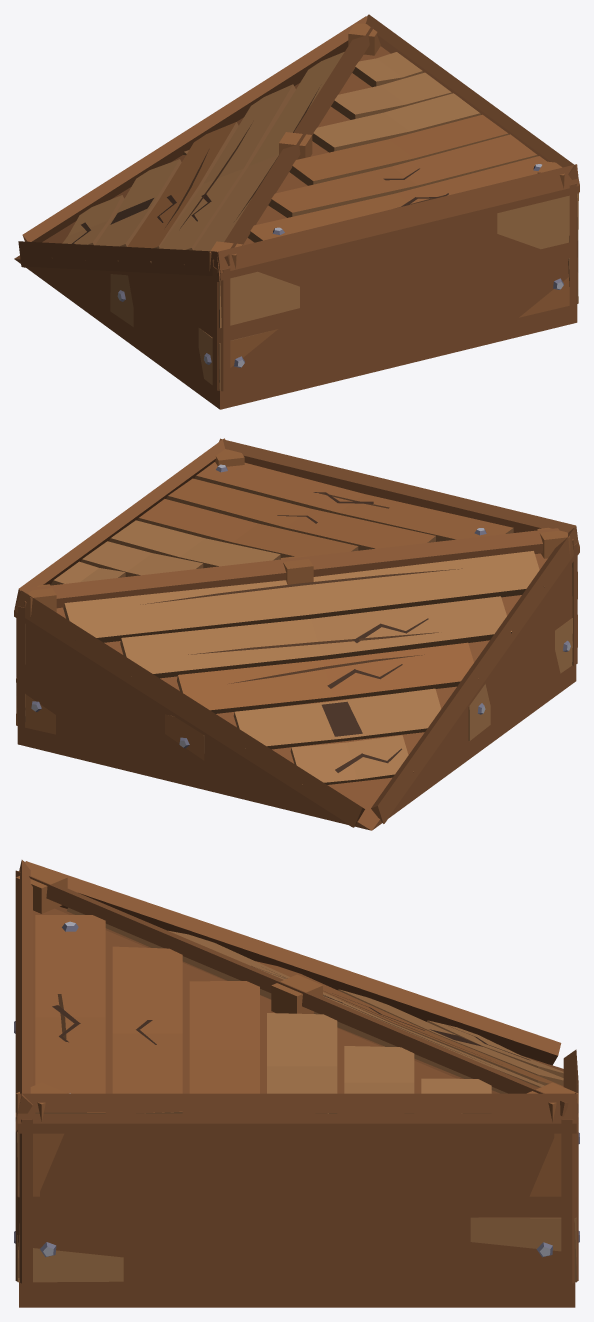
The model's file is cone_plank_tent_crack2.glb.
3 views of the same model, one above another, from view 1: azimuth 30°, elevation 25°; view 2: azimuth 150°, elevation 25°; view 3: azimuth 270°, elevation 25° (orthographic). The views are drawn at different scales.
Visible parts, largest first — view 1: Body; view 2: Body; view 3: Body.
Part boxes in pixels (x1=…): Body: x1=14, y1=14, x2=579, y2=409; Body: x1=14, y1=438, x2=579, y2=830; Body: x1=14, y1=860, x2=579, y2=1307.
Size of the model in its own units: 4.01 by 1.67 by 4.01.
